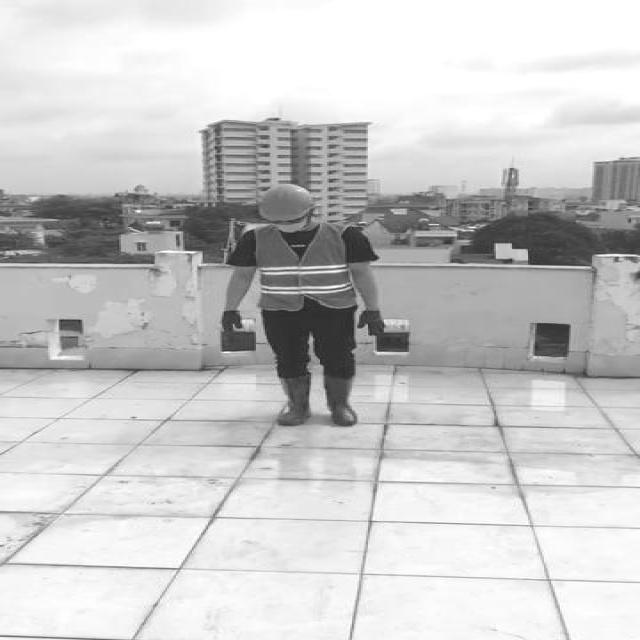boots: (323, 376, 358, 427), (277, 373, 311, 425)
face_mask: (266, 212, 312, 235)
hand_glove: (358, 310, 388, 337), (218, 309, 242, 334)
head_helmet: (254, 182, 316, 222)
person: (211, 181, 390, 435)
vest: (254, 226, 352, 311)
